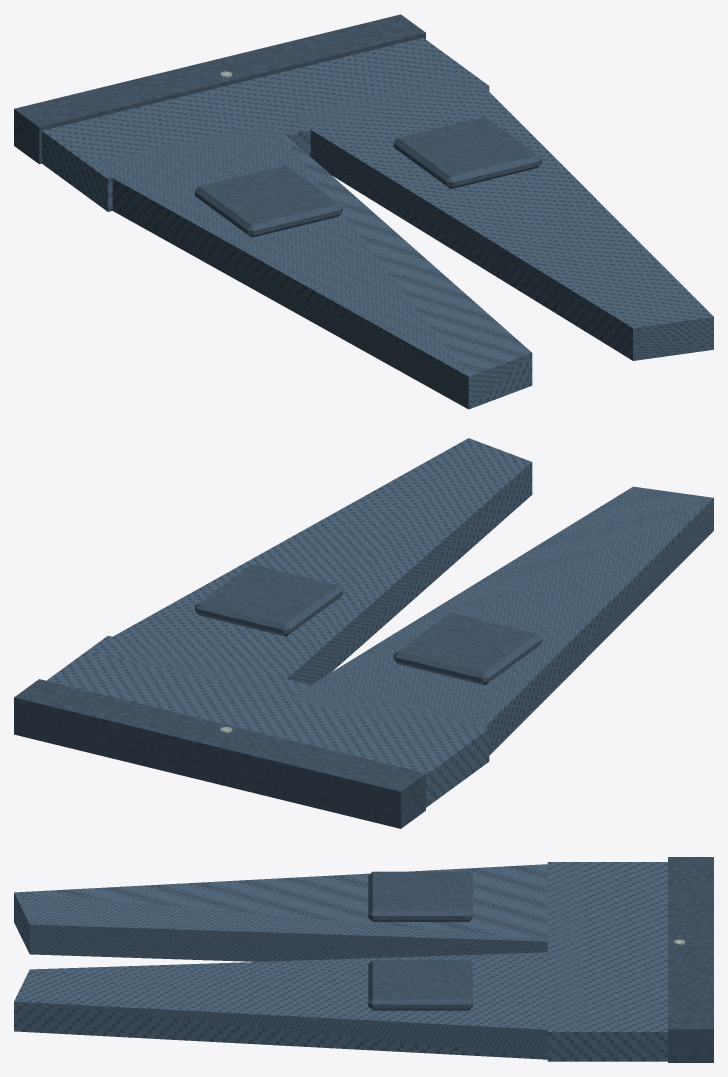
Rendered from jeans_skinny.glb.
The picture shows the model from 3 angles, top to bottom: view 1: azimuth 30°, elevation 25°; view 2: azimuth 150°, elevation 25°; view 3: azimuth 270°, elevation 25°; orthographic projection. The views are drawn at different scales.
Visible parts, largest first — view 1: block_leg -1, block_leg 1, block_seat, block_waistband, block_cargo pocket 1, block_cargo pocket -1; view 2: block_leg 1, block_leg -1, block_waistband, block_seat, block_cargo pocket -1, block_cargo pocket 1; view 3: block_leg 1, block_leg -1, block_seat, block_waistband, block_cargo pocket -1, block_cargo pocket 1.
Part boxes in pixels (x1,y1,x2,y2): block_leg -1: (87,121,532,409); block_leg 1: (290,71,713,360); block_seat: (42,37,489,211); block_waistband: (14,14,425,164); block_cargo pocket 1: (393,116,541,189); block_cargo pocket -1: (195,165,342,237); block_leg 1: (87,438,532,692); block_leg -1: (290,486,713,755); block_waistband: (14,679,425,828); block_seat: (46,635,489,807); block_cargo pocket -1: (393,612,541,685); block_cargo pocket 1: (195,564,342,636); block_leg 1: (14,951,585,1059); block_leg -1: (14,862,586,961); block_seat: (547,862,667,1061); block_waistband: (668,857,713,1062); block_cargo pocket -1: (368,871,472,921); block_cargo pocket 1: (368,960,472,1010).
Bounding box in the file's own units: 0.284 × 0.032 × 0.488.
Materials: 1 (1 with a texture image).
